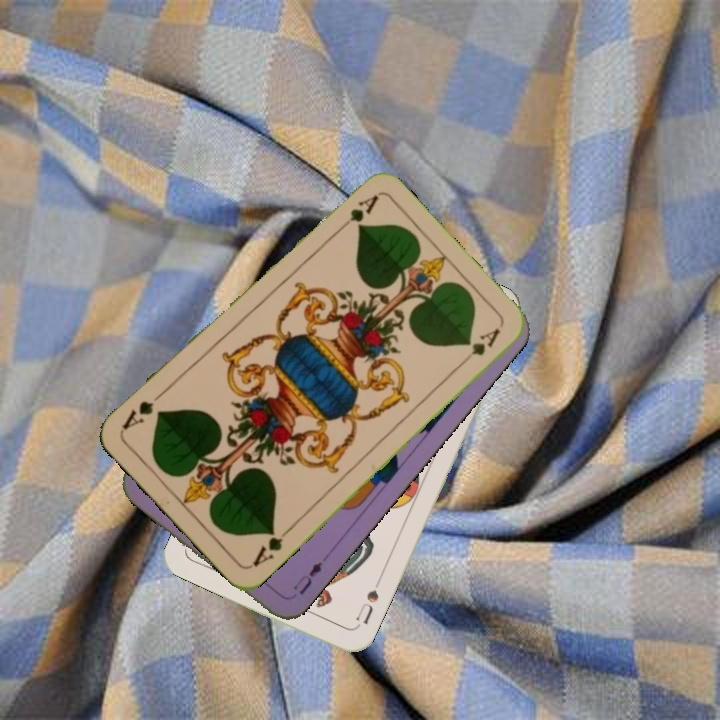EU: (289, 557, 325, 598)
GA: (332, 190, 381, 235), (248, 523, 294, 570)
SU: (351, 575, 384, 631)
